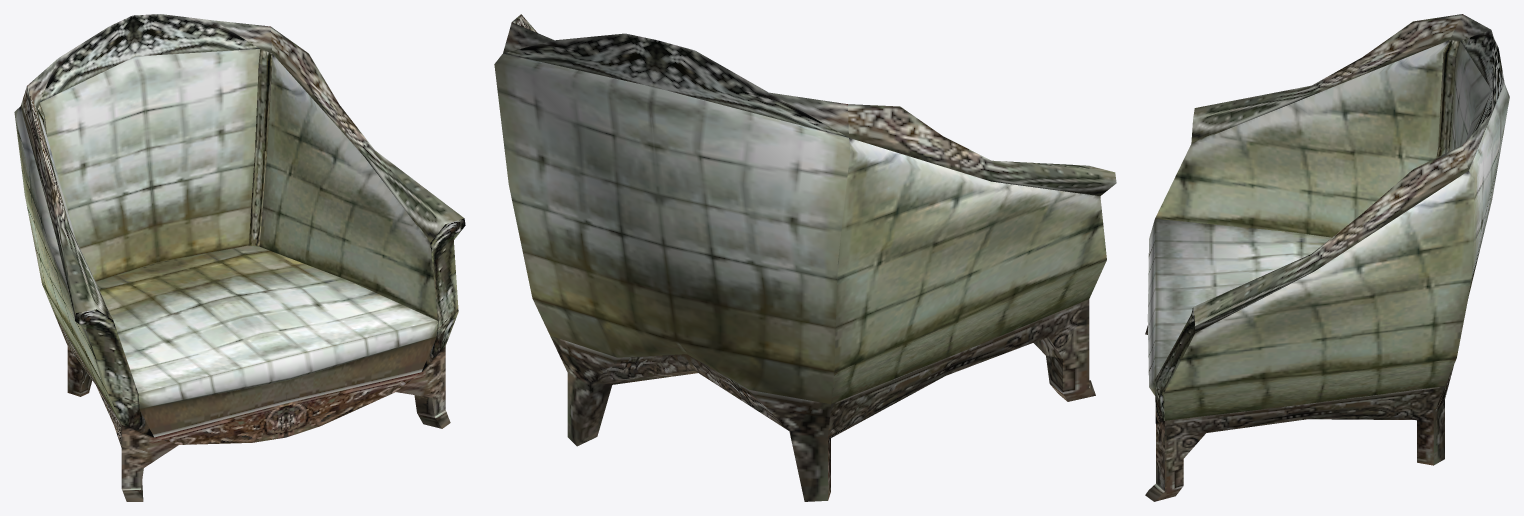
Rendered from hel_club_armchair.fbx.
3 views of the same model, side by side, from view 1: azimuth 30°, elevation 25°; view 2: azimuth 150°, elevation 25°; view 3: azimuth 270°, elevation 25° (orthographic). The views are drawn at different scales.
Parts seen in each view (by area): view 1: mesh_0; view 2: mesh_0; view 3: mesh_0.
Boxes of the visible parts, x1=… form: mesh_0: x1=14, y1=14, x2=465, y2=501; mesh_0: x1=494, y1=14, x2=1116, y2=501; mesh_0: x1=1145, y1=14, x2=1509, y2=501.
Size of the model in its own units: 181 by 147 by 133.
Materials: 1 (1 with a texture image).
